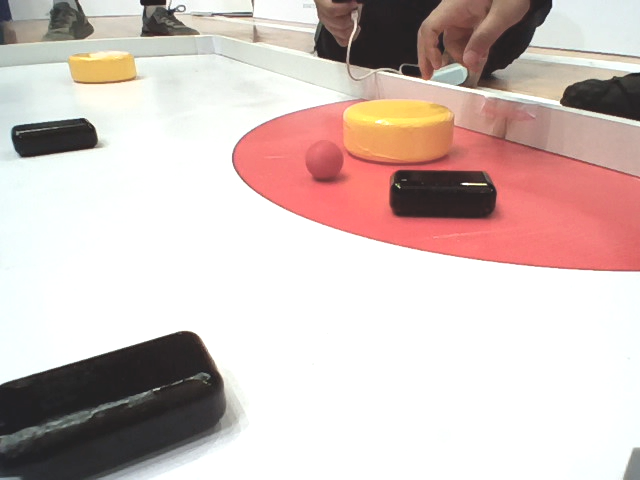black: (1, 329, 236, 480), (387, 169, 496, 216), (7, 116, 108, 162)
red: (305, 139, 341, 177)
yellow: (344, 99, 458, 162), (66, 46, 140, 83)
